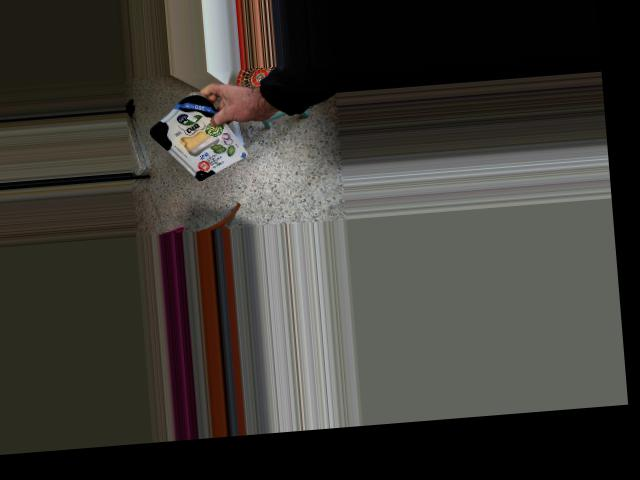cheese: (148, 87, 243, 193)
